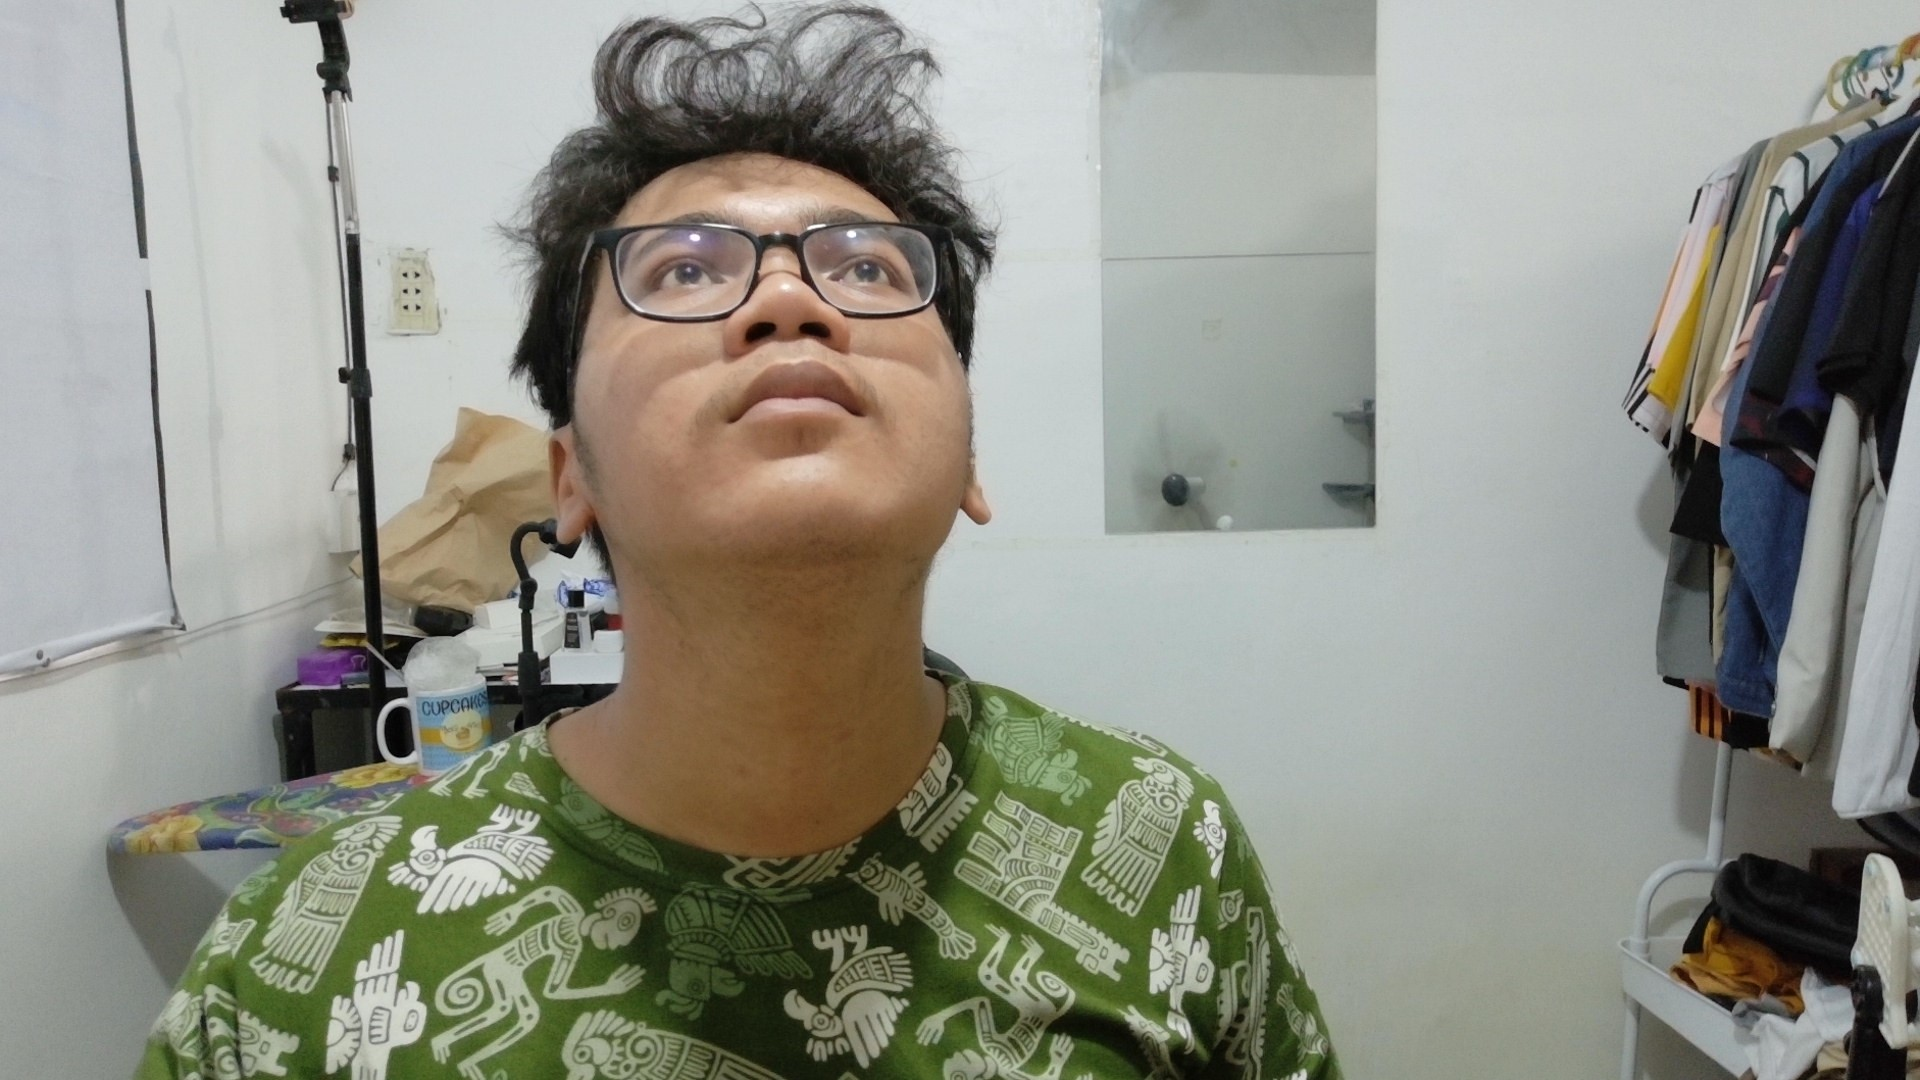face: (467, 10, 1110, 693)
